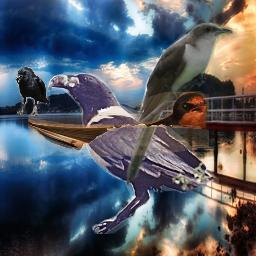Crow: (47, 72, 220, 234), (15, 67, 50, 116)
Cuckoo: (121, 20, 234, 189)
Swallow: (28, 91, 209, 157)
